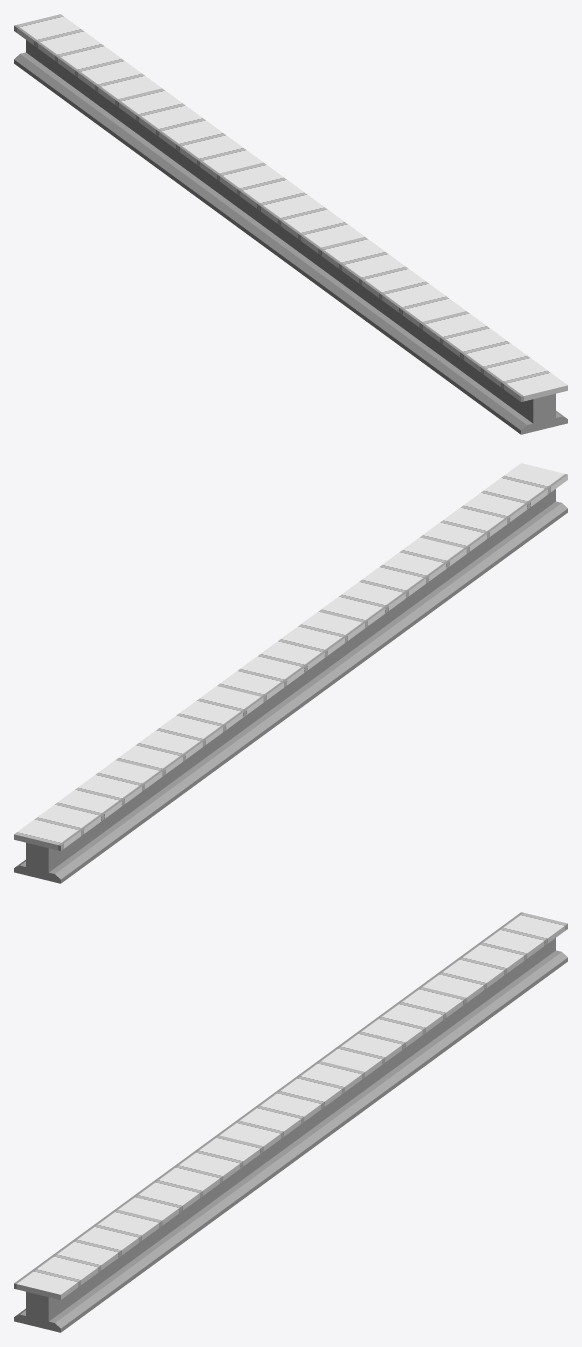
Rendered from conveyor_2.fbx.
The picture shows the model from 3 angles, top to bottom: view 1: azimuth 30°, elevation 25°; view 2: azimuth 150°, elevation 25°; view 3: azimuth 330°, elevation 25°; orthographic projection.
Parts seen in each view (by area): view 1: type_2; view 2: type_2; view 3: type_2.
Part boxes in pixels (left/top/right/bottom): type_2: left=14, top=14, right=567, bottom=434; type_2: left=14, top=463, right=567, bottom=883; type_2: left=14, top=912, right=567, bottom=1332.
Bounding box in the file's own units: 49.32 × 38.23 × 925.
